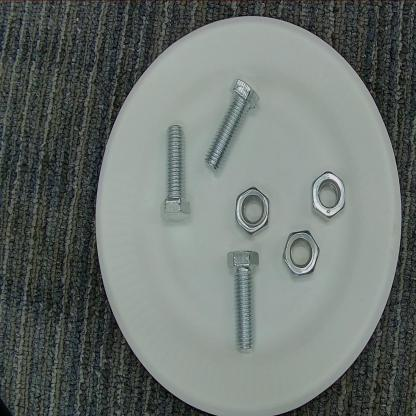FOD: (201, 72, 265, 176), (223, 238, 266, 361), (158, 119, 195, 227), (230, 179, 275, 238), (281, 226, 324, 284), (310, 164, 350, 223)
